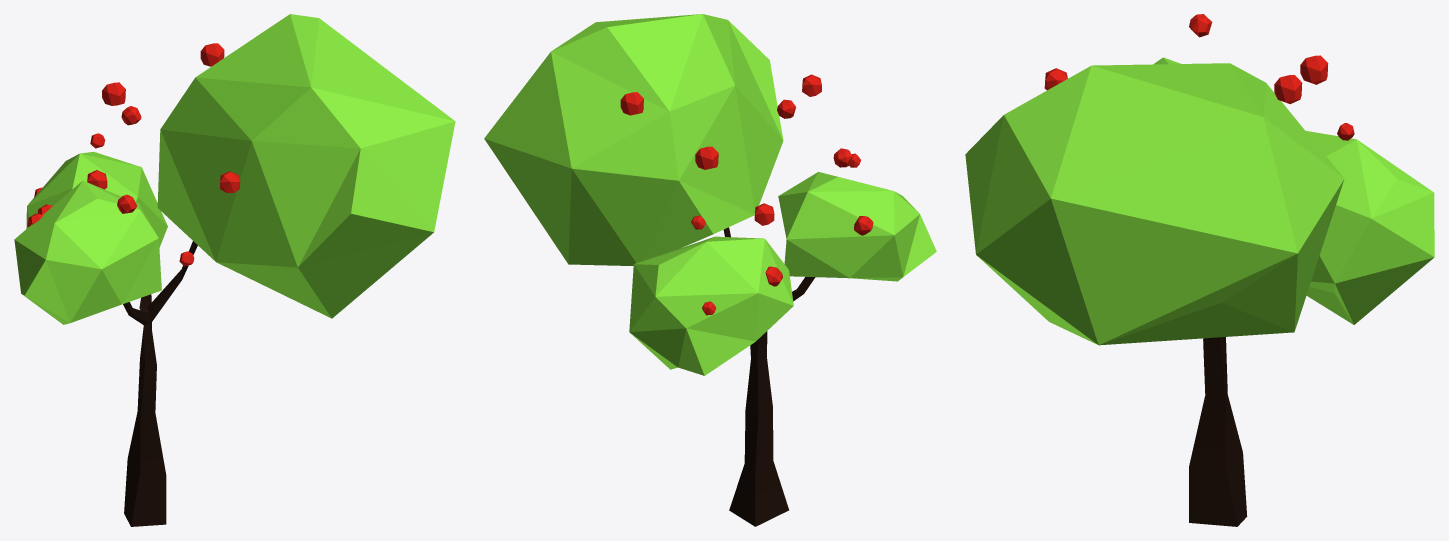
File: apple tree2.FBX
3 renders of one model, left to right at view 1: azimuth 30°, elevation 25°; view 2: azimuth 150°, elevation 25°; view 3: azimuth 270°, elevation 25°, orthographic. The views are drawn at different scales.
Parts seen in each view (by area): view 1: GeoSphere004, GeoSphere006, Box004, GeoSphere005; view 2: GeoSphere004, GeoSphere005, GeoSphere006, Box004; view 3: GeoSphere004, GeoSphere005, Box004, GeoSphere021, GeoSphere007.
Boxes of the visible parts, box(x1,y1,x2,y2) form: GeoSphere004: box(157, 14, 455, 318); GeoSphere006: box(14, 180, 161, 324); Box004: box(123, 241, 197, 526); GeoSphere005: box(26, 152, 167, 247); GeoSphere004: box(484, 14, 783, 265); GeoSphere005: box(629, 236, 793, 375); GeoSphere006: box(778, 172, 936, 281); Box004: box(723, 227, 815, 526); GeoSphere004: box(965, 63, 1344, 345); GeoSphere005: box(1305, 130, 1434, 324); Box004: box(1189, 337, 1247, 526); GeoSphere021: box(1274, 75, 1302, 104); GeoSphere007: box(1300, 55, 1328, 84).
Size of the model in its own units: 15.21 by 17.04 by 13.33.
